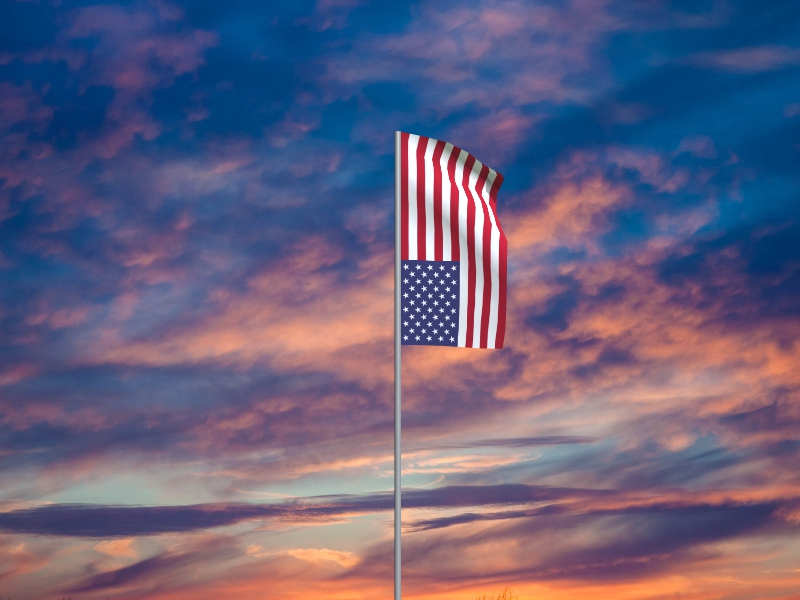us: (401, 132, 509, 350)
